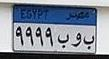9: (25, 26, 34, 46), (46, 26, 53, 47), (36, 26, 43, 47), (16, 25, 23, 46)
baa: (56, 32, 70, 49), (82, 32, 94, 49)
waw: (71, 32, 82, 49)
